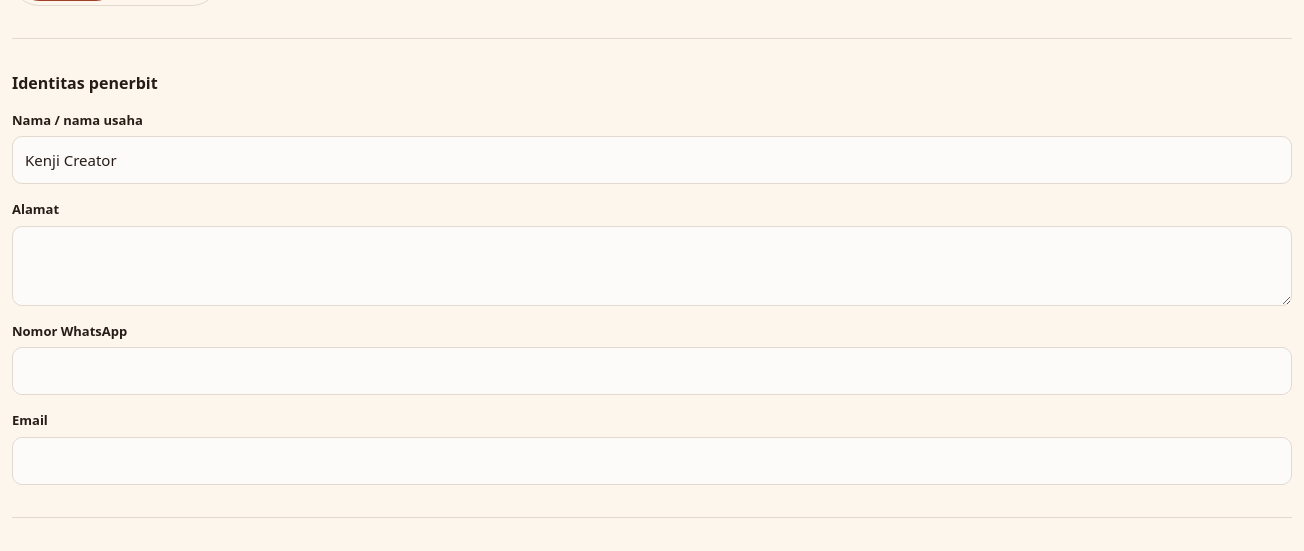
SettingsForm — required validation › blocks the save and shows inline required errors when a required field is emptied
Clear the field labelled "Nama / nama usaha": (652, 160) 12,136 -> 1292,184
(page scrolled)
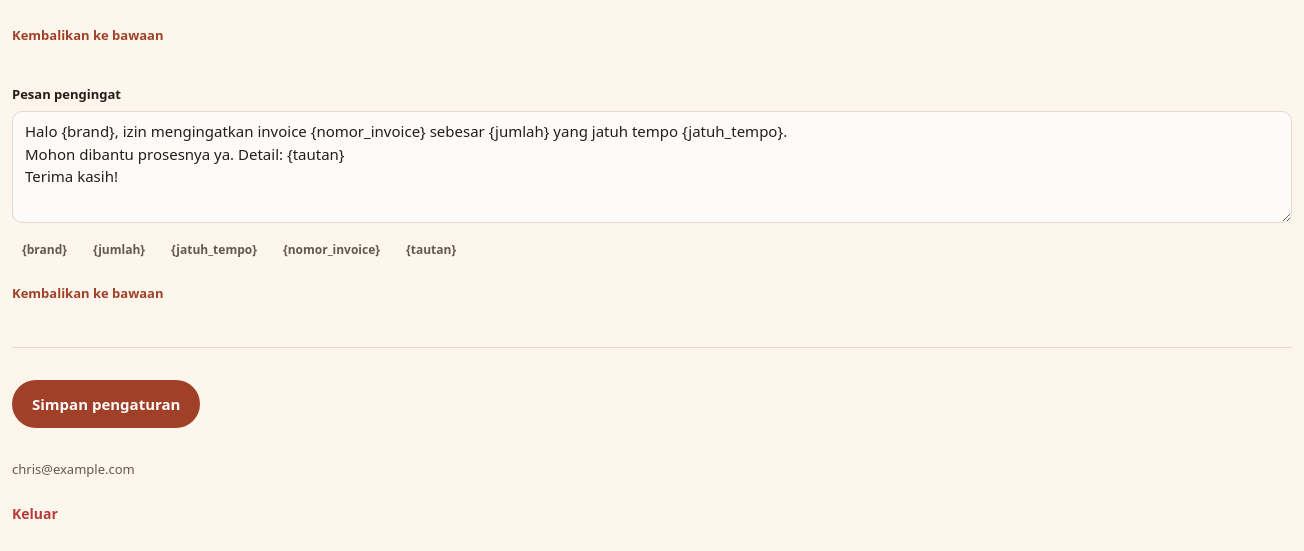
Click the button "Simpan pengaturan": click(106, 404) 12,380 -> 200,428
(page scrolled)
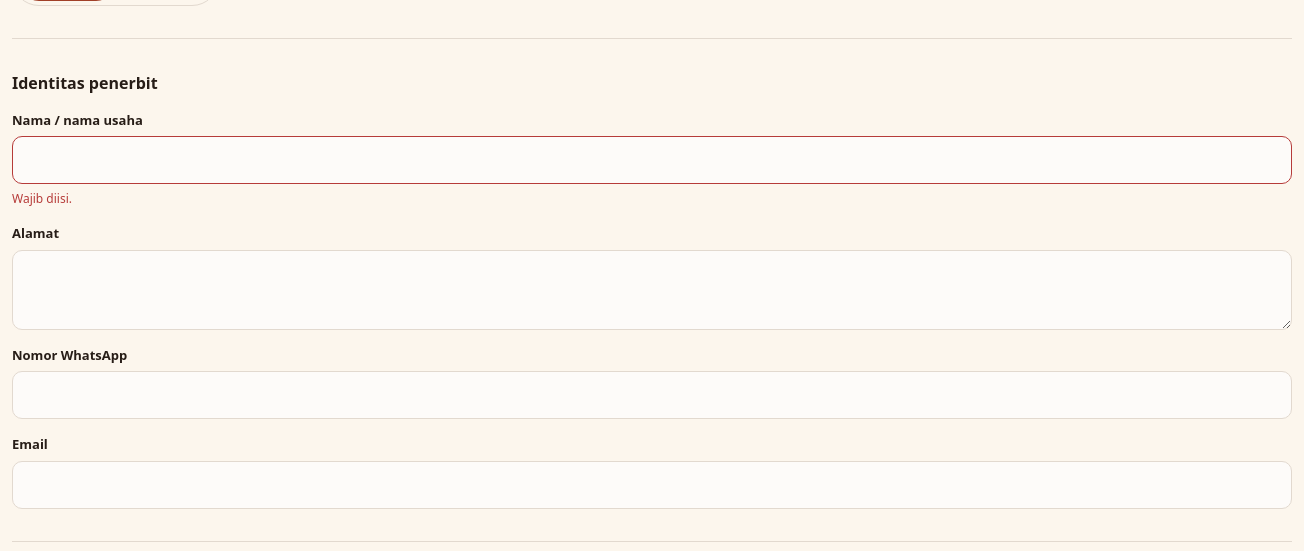
Check: the text "Wajib diisi." is shown, box 12,190 -> 72,207
